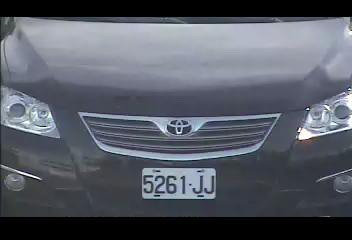plate: (140, 166, 217, 200)
